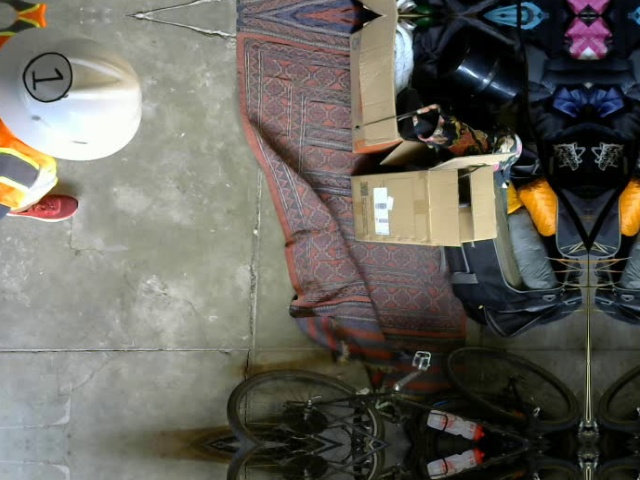one: (23, 51, 71, 102)
